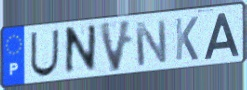A: (203, 11, 241, 61)
K: (174, 15, 200, 62)
N: (63, 22, 98, 79), (133, 18, 169, 68)
U: (29, 28, 61, 79)
V: (97, 18, 135, 75)
